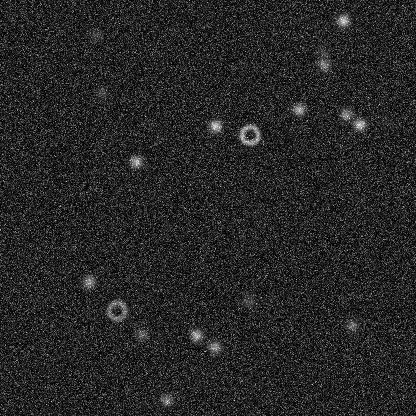Ring: (237, 122, 261, 146), (104, 298, 128, 322)
Spot: (87, 26, 103, 42), (239, 293, 255, 309), (188, 327, 204, 343), (80, 274, 96, 290), (290, 101, 306, 117), (128, 153, 144, 169), (338, 106, 354, 122), (375, 113, 391, 129), (344, 317, 360, 333), (93, 84, 109, 100), (316, 56, 332, 72), (351, 116, 367, 132), (207, 117, 223, 133), (335, 12, 351, 28), (314, 43, 330, 59), (206, 338, 222, 354), (158, 392, 174, 408), (133, 326, 149, 342)
